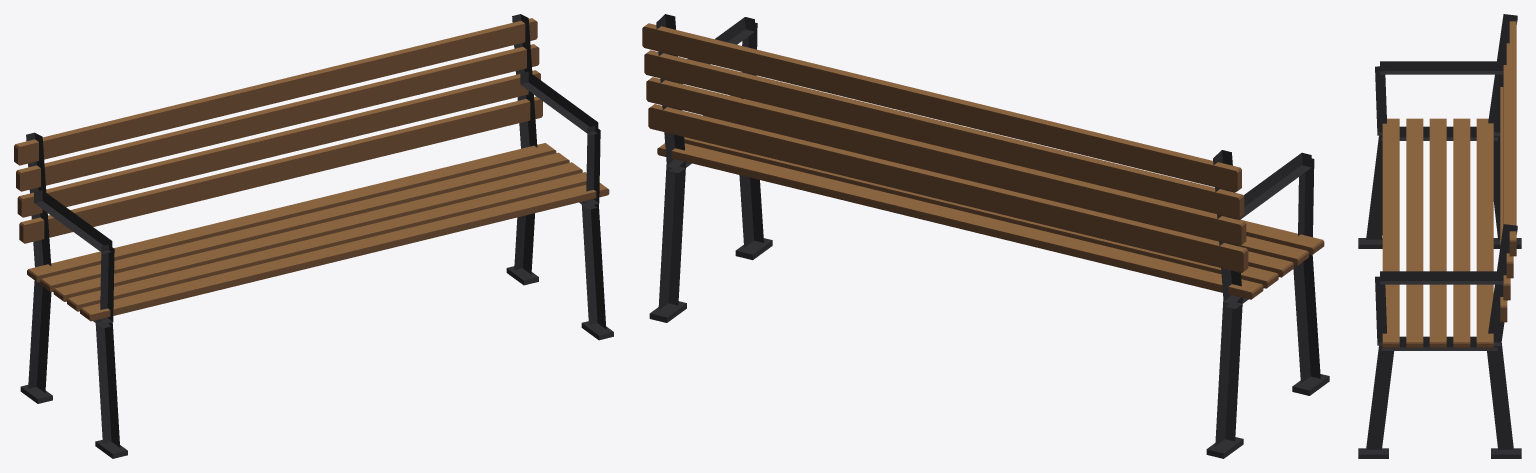
File: FN_Bench_Park.obj
The picture shows the model from 3 angles, left to right: view 1: azimuth 30°, elevation 25°; view 2: azimuth 150°, elevation 25°; view 3: azimuth 270°, elevation 25°; orthographic projection. The views are drawn at different scales.
Parts seen in each view (by area): view 1: FN_Bench_Park; view 2: FN_Bench_Park; view 3: FN_Bench_Park.
Boxes of the visible parts, x1=… form: FN_Bench_Park: x1=14, y1=14, x2=613, y2=458; FN_Bench_Park: x1=642, y1=14, x2=1329, y2=458; FN_Bench_Park: x1=1358, y1=14, x2=1521, y2=458.
Size of the model in its own units: 1.8 by 0.859 by 0.554.
Materials: 1 (1 with a texture image).
